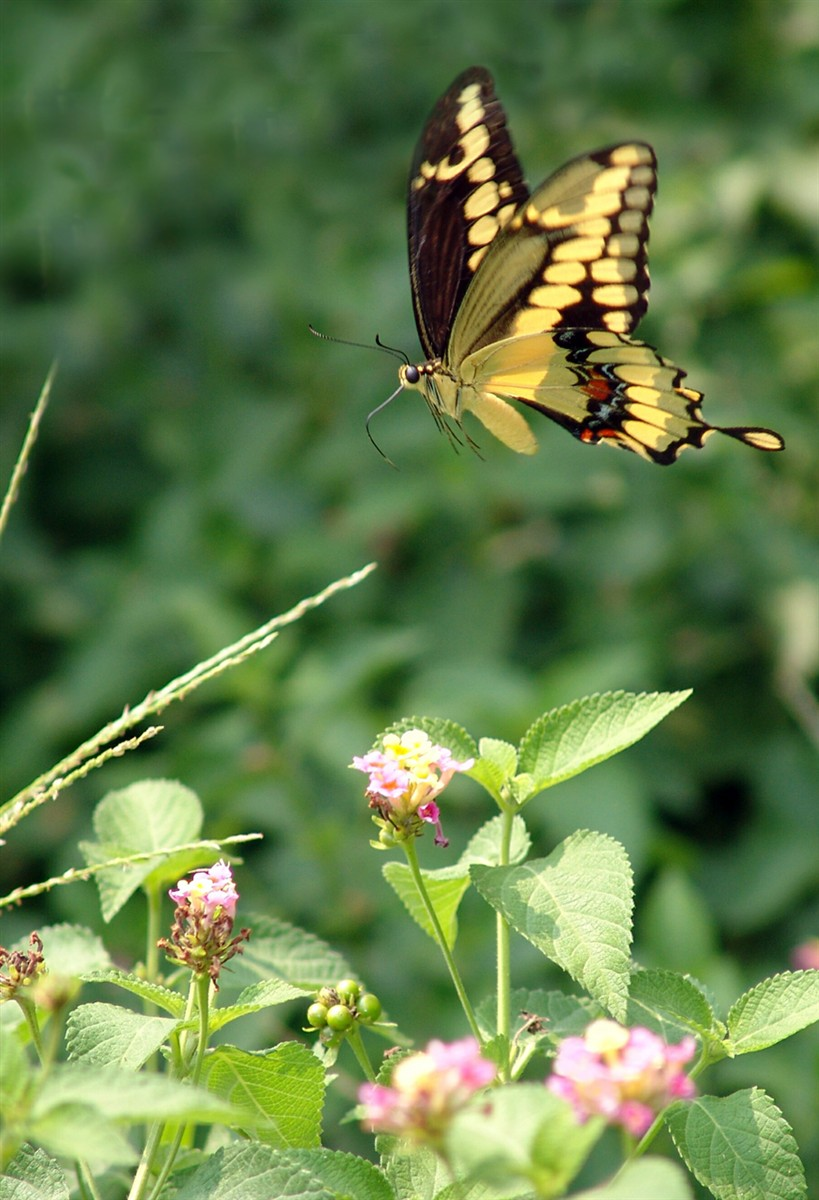insect: (298, 61, 786, 490)
